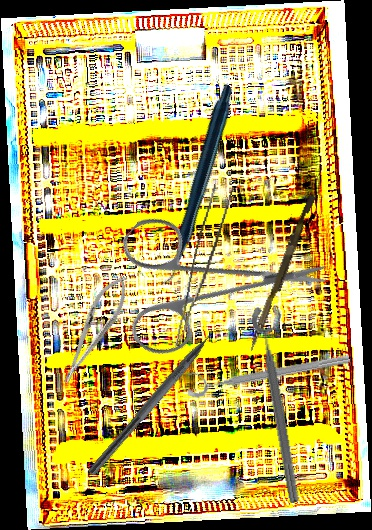Chopper: (86, 312, 237, 487)
Fixation Ring: (249, 302, 316, 505), (183, 340, 352, 400)
Handpiece: (88, 81, 303, 288)
Iris Scissors: (78, 155, 332, 409)
Needle Holder: (52, 269, 136, 390)
Pusher: (248, 193, 316, 354)
Tissue Forceps: (175, 183, 233, 351)
